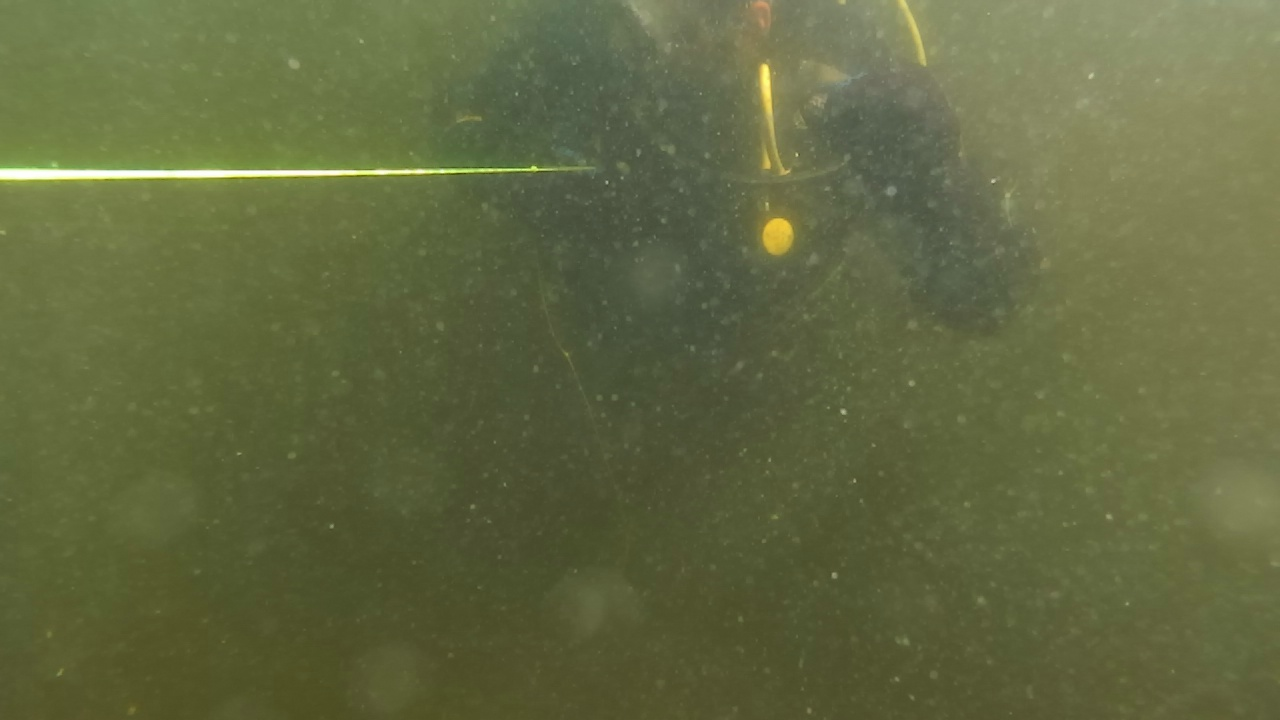Diver: (440, 0, 1064, 356)
Hand: (792, 58, 988, 218)
